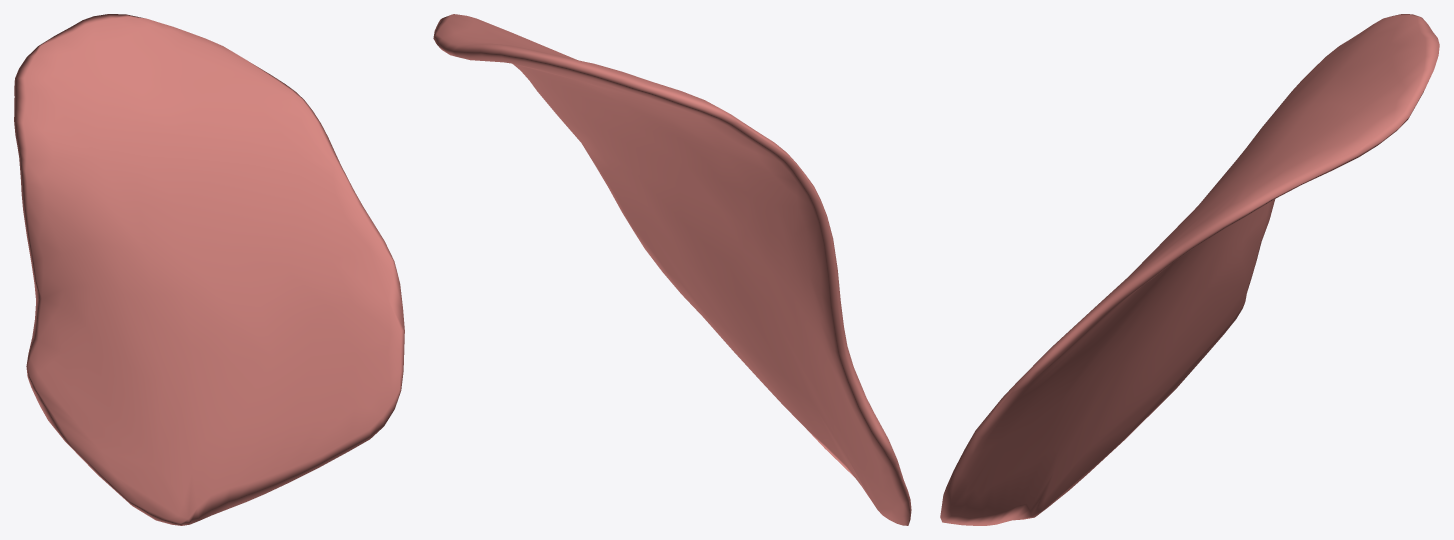
3 views of the same model, side by side, from view 1: azimuth 30°, elevation 25°; view 2: azimuth 150°, elevation 25°; view 3: azimuth 270°, elevation 25° (orthographic). The views are drawn at different scales.
Parts seen in each view (by area): view 1: ZA_0c0b81a49a21431f; view 2: ZA_0c0b81a49a21431f; view 3: ZA_0c0b81a49a21431f.
Part boxes in pixels (box(x1,y1,x2,y2)): ZA_0c0b81a49a21431f: box(14, 14, 404, 525); ZA_0c0b81a49a21431f: box(433, 14, 911, 525); ZA_0c0b81a49a21431f: box(940, 14, 1439, 525).
Size of the model in its own units: 0.0149 by 0.0186 by 0.0164.
